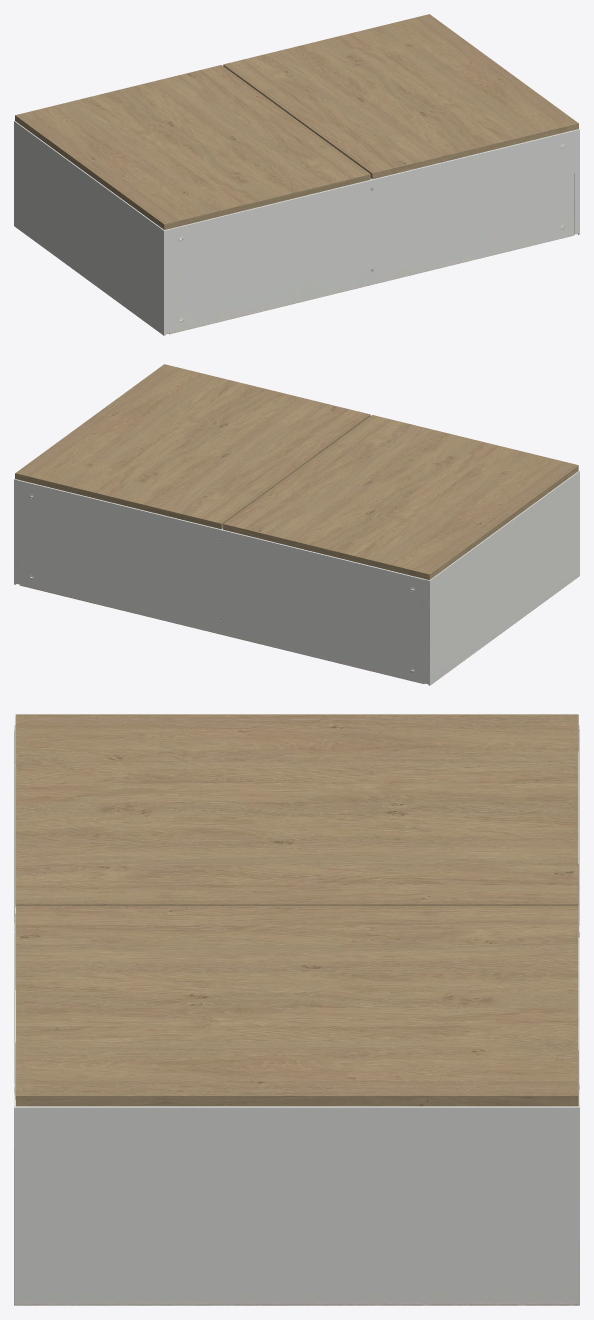
Rendered from knoxhult-armario-de-pared-con-puertas-efecto-roble.glb.
3 views of the same model, one above another, from view 1: azimuth 30°, elevation 25°; view 2: azimuth 150°, elevation 25°; view 3: azimuth 270°, elevation 25° (orthographic). The views are drawn at different scales.
Visible parts, largest first — view 1: ASY_ART_60603984_S01_NV01, ASY_LPT01_60603984_S01_NV01, ASY_LPT02_60603984_S01_NV01; view 2: ASY_ART_60603984_S01_NV01, ASY_LPT01_60603984_S01_NV01, ASY_LPT02_60603984_S01_NV01; view 3: ASY_ART_60603984_S01_NV01, ASY_LPT02_60603984_S01_NV01, ASY_LPT01_60603984_S01_NV01.
Part boxes in pixels (x1=…): ASY_ART_60603984_S01_NV01: x1=14, y1=121, x2=579, y2=335; ASY_LPT01_60603984_S01_NV01: x1=15, y1=65, x2=370, y2=229; ASY_LPT02_60603984_S01_NV01: x1=223, y1=14, x2=578, y2=179; ASY_ART_60603984_S01_NV01: x1=14, y1=471, x2=579, y2=685; ASY_LPT01_60603984_S01_NV01: x1=223, y1=415, x2=578, y2=579; ASY_LPT02_60603984_S01_NV01: x1=15, y1=364, x2=370, y2=529; ASY_ART_60603984_S01_NV01: x1=14, y1=725, x2=579, y2=1305; ASY_LPT02_60603984_S01_NV01: x1=15, y1=905, x2=578, y2=1106; ASY_LPT01_60603984_S01_NV01: x1=15, y1=714, x2=578, y2=906.
Bounding box in the file's own units: 1.2 × 0.3067 × 0.7502.
Materials: 4 (3 with a texture image).
